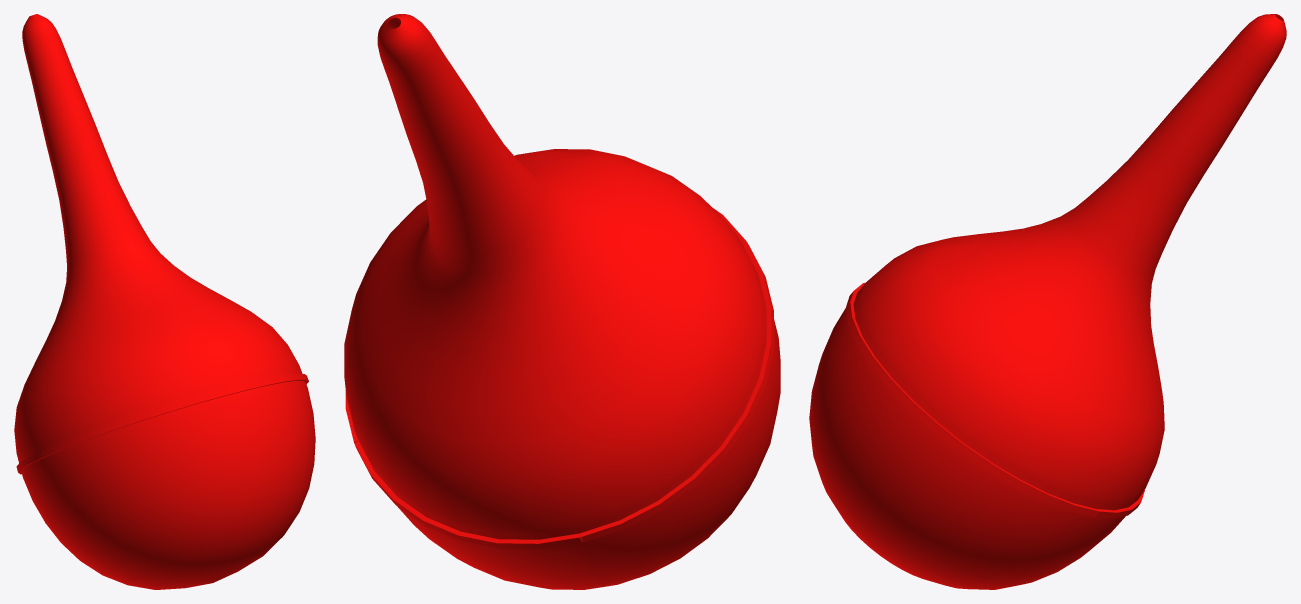
The model's file is 洗耳球.fbx.
3 views of the same model, side by side, from view 1: azimuth 30°, elevation 25°; view 2: azimuth 150°, elevation 25°; view 3: azimuth 270°, elevation 25° (orthographic). The views are drawn at different scales.
Parts seen in each view (by area): view 1: Plane001; view 2: Plane001; view 3: Plane001.
Part boxes in pixels (left/top/right/bottom): Plane001: left=14, top=14, right=315, bottom=589; Plane001: left=344, top=14, right=780, bottom=589; Plane001: left=809, top=14, right=1286, bottom=589.
Bounding box in the file's own units: 663 × 1135 × 886.
